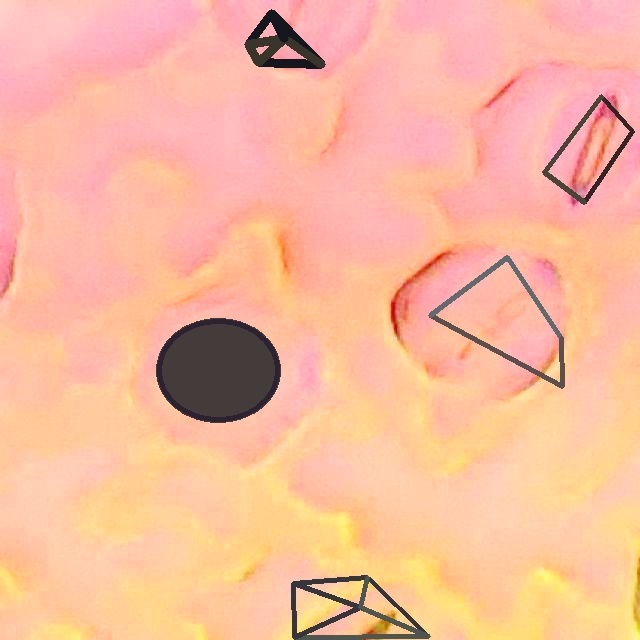open: (428, 255, 563, 388), (157, 318, 280, 423), (542, 95, 633, 204), (291, 575, 430, 639), (244, 9, 325, 66)
